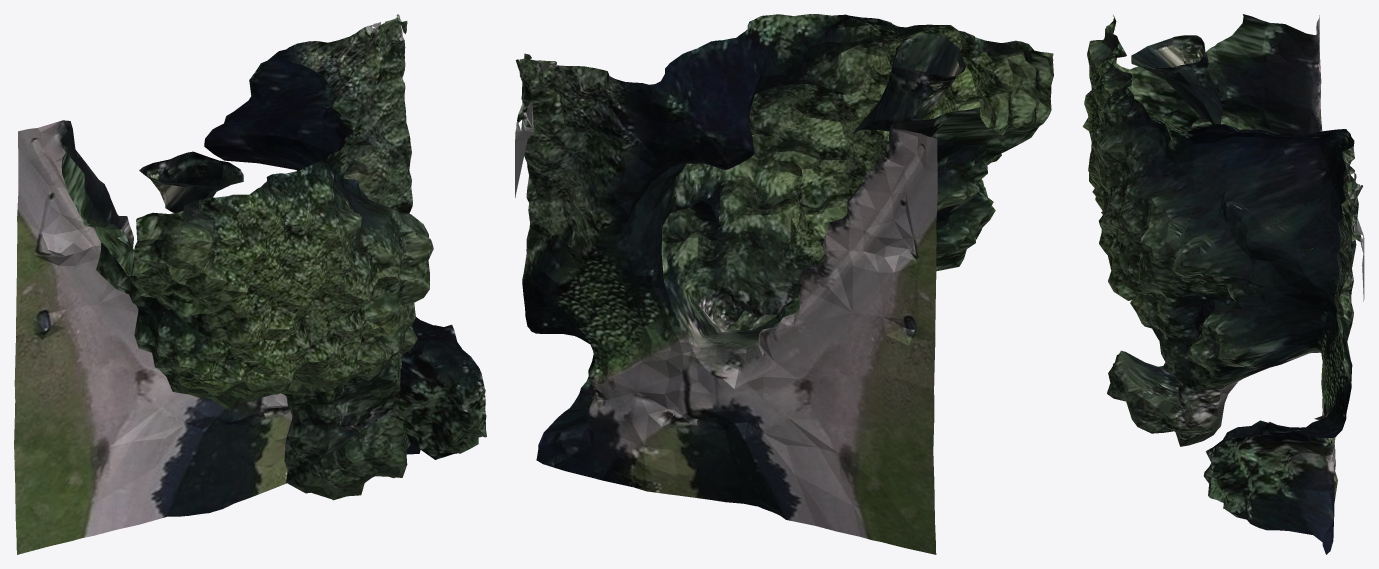
File: Tile_+031_+024_L20_0001320.obj
The picture shows the model from 3 angles, left to right: view 1: azimuth 30°, elevation 25°; view 2: azimuth 150°, elevation 25°; view 3: azimuth 270°, elevation 25°; orthographic projection. The views are drawn at different scales.
Size of the model in its own units: 31.5 by 31.5 by 21.82.
1 material, 1 textured.
